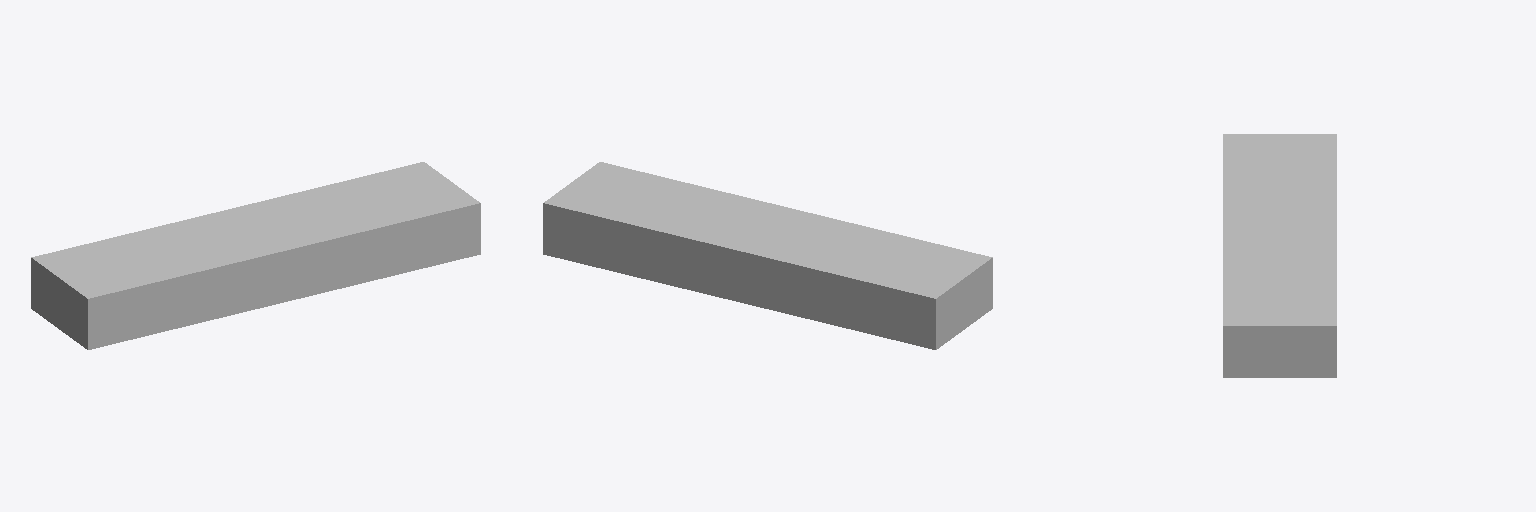
File: Block_16x4x2.obj
3 renders of one model, left to right at view 1: azimuth 30°, elevation 25°; view 2: azimuth 150°, elevation 25°; view 3: azimuth 270°, elevation 25°, orthographic.
Visible parts, largest first — view 1: Block_16x4x2_Cube.261; view 2: Block_16x4x2_Cube.261; view 3: Block_16x4x2_Cube.261.
Boxes of the visible parts, box(x1,y1,x2,y2) form: Block_16x4x2_Cube.261: box(31, 162, 480, 349); Block_16x4x2_Cube.261: box(543, 162, 992, 349); Block_16x4x2_Cube.261: box(1223, 134, 1336, 377).
Bounding box in the file's own units: 16 × 2 × 4.